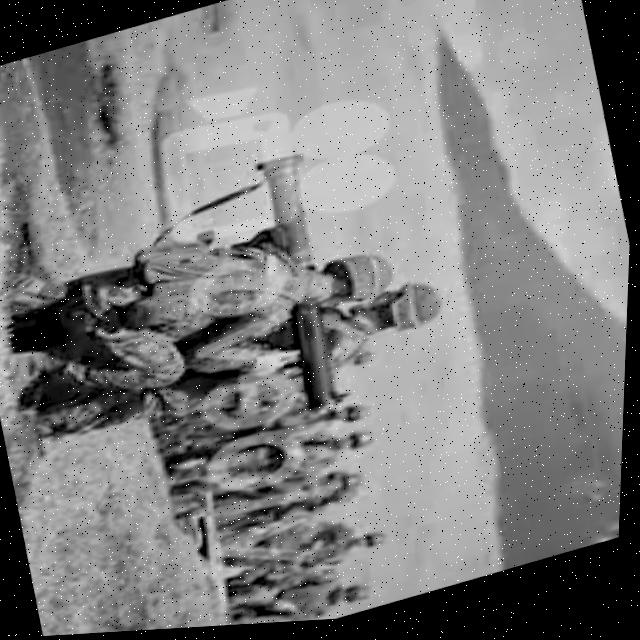rocket: (220, 144, 384, 434)
